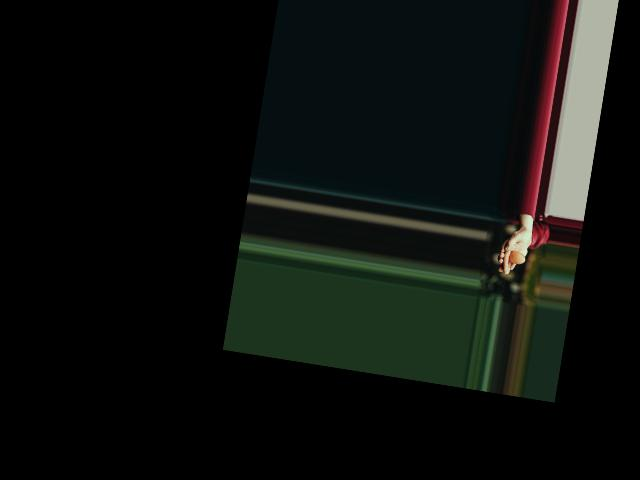egg: (508, 250, 526, 264)
